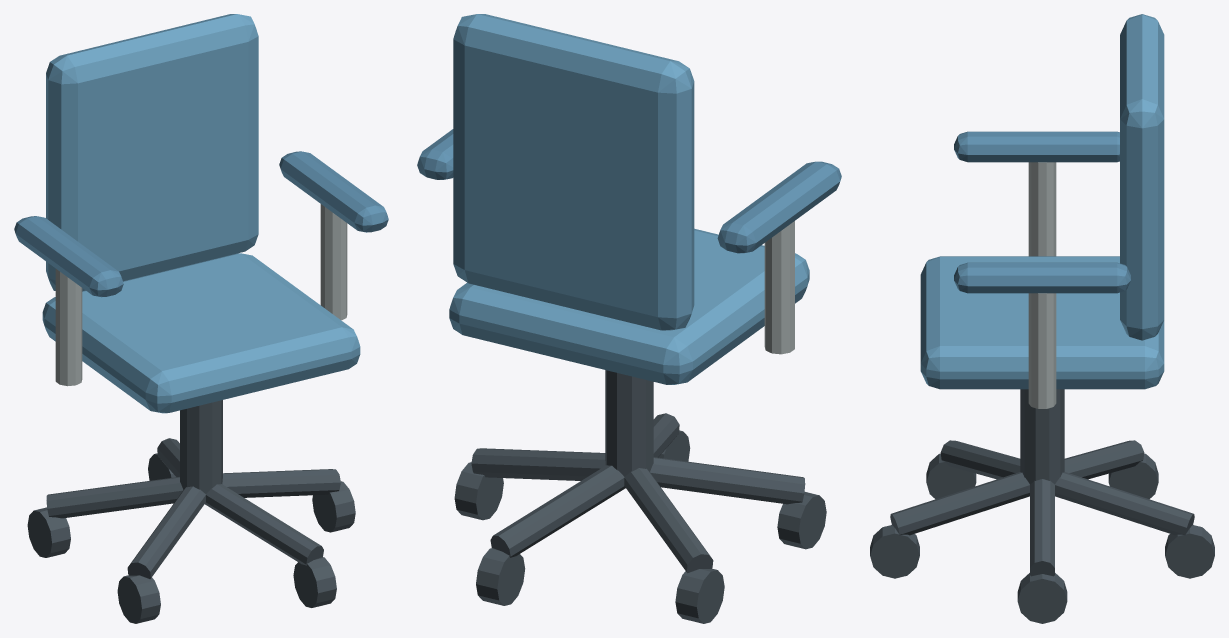
Rendered from reception_T2_chair.glb.
3 renders of one model, left to right at view 1: azimuth 30°, elevation 25°; view 2: azimuth 150°, elevation 25°; view 3: azimuth 270°, elevation 25°, orthographic. The views are drawn at different scales.
Visible parts, largest first — view 1: reception_T2_chair__Static_Assembly, caster_3, caster_4, caster_2, caster_0; view 2: reception_T2_chair__Static_Assembly, caster_2, caster_1, caster_3, caster_0, caster_4; view 3: reception_T2_chair__Static_Assembly, caster_0, caster_1, caster_4, caster_2, caster_3.
Part boxes in pixels (x1,y1,x2,y2): reception_T2_chair__Static_Assembly: (14, 14, 388, 578); caster_3: (117, 575, 160, 623); caster_4: (293, 557, 336, 607); caster_2: (27, 507, 70, 557); caster_0: (312, 481, 355, 532); reception_T2_chair__Static_Assembly: (417, 14, 841, 573); caster_2: (675, 568, 724, 623); caster_1: (476, 548, 525, 605); caster_3: (777, 492, 826, 549); caster_0: (454, 462, 503, 520); caster_4: (658, 430, 690, 461); reception_T2_chair__Static_Assembly: (890, 14, 1194, 576); caster_0: (1017, 573, 1067, 623); caster_1: (1165, 525, 1214, 578); caster_4: (870, 525, 919, 578); caster_2: (1108, 453, 1158, 499); caster_3: (926, 453, 976, 499).
Bounding box in the file's own units: 0.63 × 0.99 × 0.6226.
